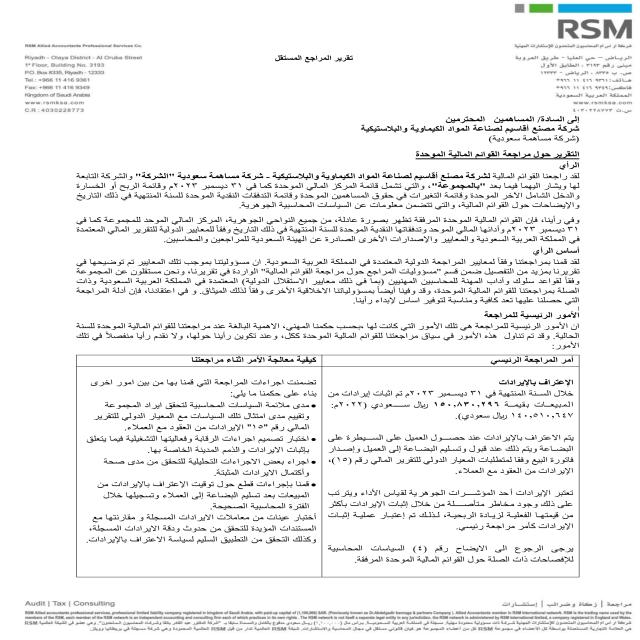auditor_report: (258, 44, 365, 80)
